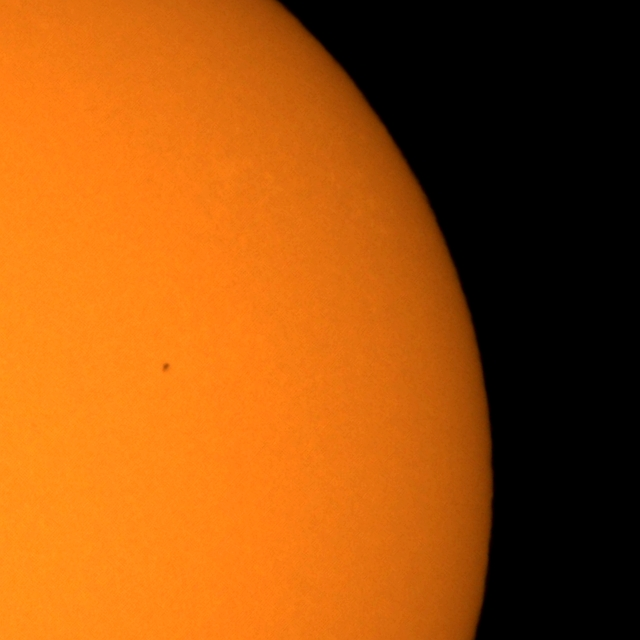sunspot: (161, 362, 171, 374)
